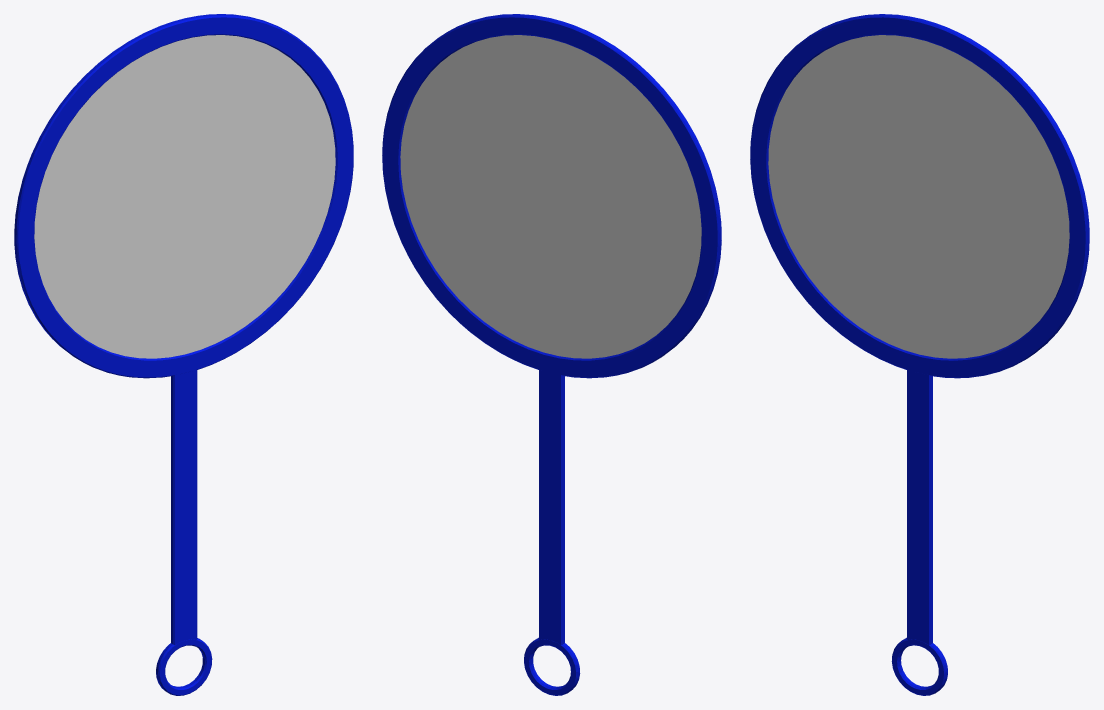
File: poi.fbx
3 renders of one model, left to right at view 1: azimuth 30°, elevation 25°; view 2: azimuth 150°, elevation 25°; view 3: azimuth 330°, elevation 25°, orthographic.
Visible parts, largest first — view 1: ポイの紙-通常, ポイ本体; view 2: ポイの紙-通常, ポイ本体; view 3: ポイの紙-通常, ポイ本体.
Part boxes in pixels (bbox=[...]): ポイの紙-通常: bbox=[34, 35, 335, 358]; ポイ本体: bbox=[14, 14, 353, 695]; ポイの紙-通常: bbox=[400, 35, 701, 358]; ポイ本体: bbox=[382, 14, 721, 695]; ポイの紙-通常: bbox=[768, 35, 1069, 358]; ポイ本体: bbox=[750, 14, 1089, 695].
Bounding box in the file's own units: 0.168 × 0.321 × 0.0031.
